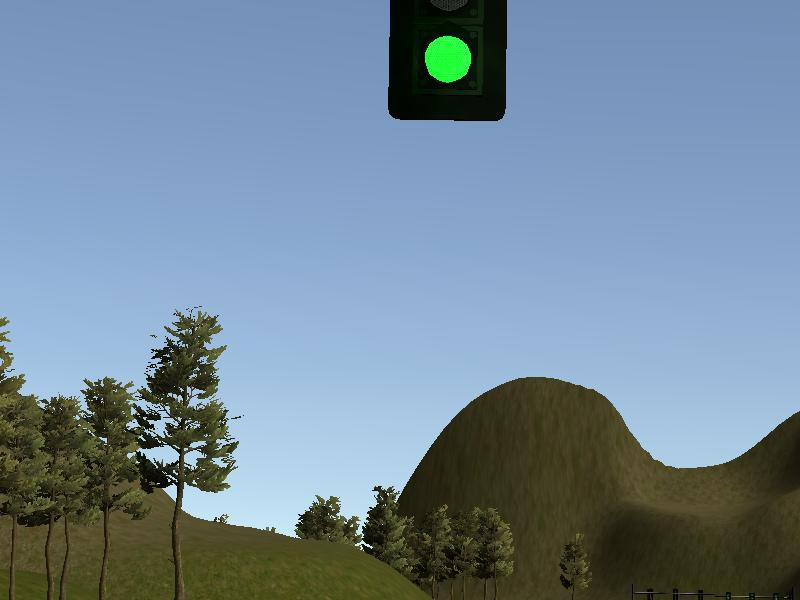Green: (386, 1, 510, 125)
